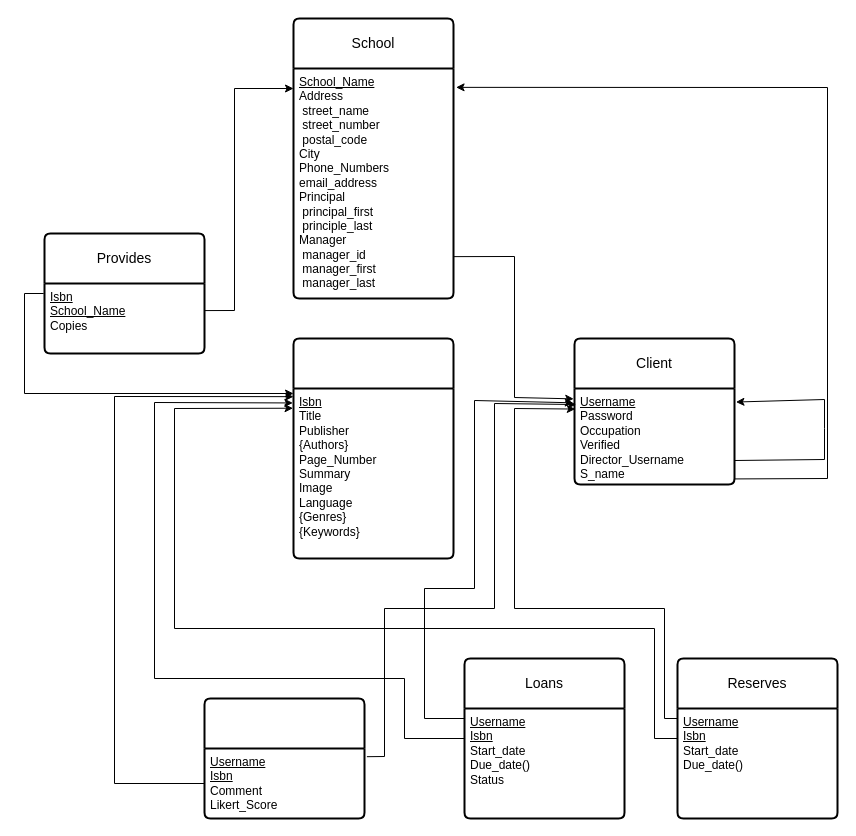
This 856x836 diagram has some shape labels left out. The shapes that lost their labels are listed below. From the top down, each one's box as (x1, y1, x2, y2) in pixels, then its label:
(292, 337, 454, 559): Book
(203, 697, 365, 819): Review
